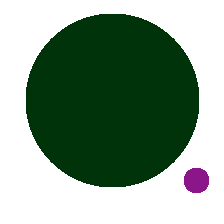circle: (26, 14, 198, 186), (184, 168, 208, 192)
